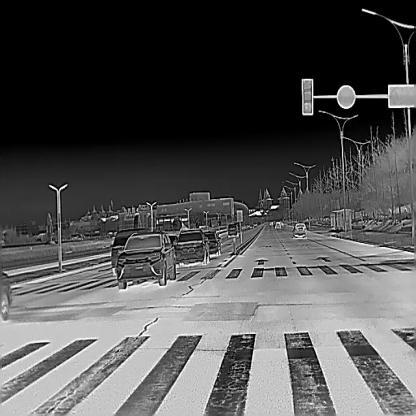car: (116, 231, 176, 288), (109, 227, 152, 274), (175, 228, 208, 266), (0, 270, 12, 321), (198, 231, 221, 256), (292, 222, 306, 237), (227, 223, 237, 237), (274, 220, 281, 228)
